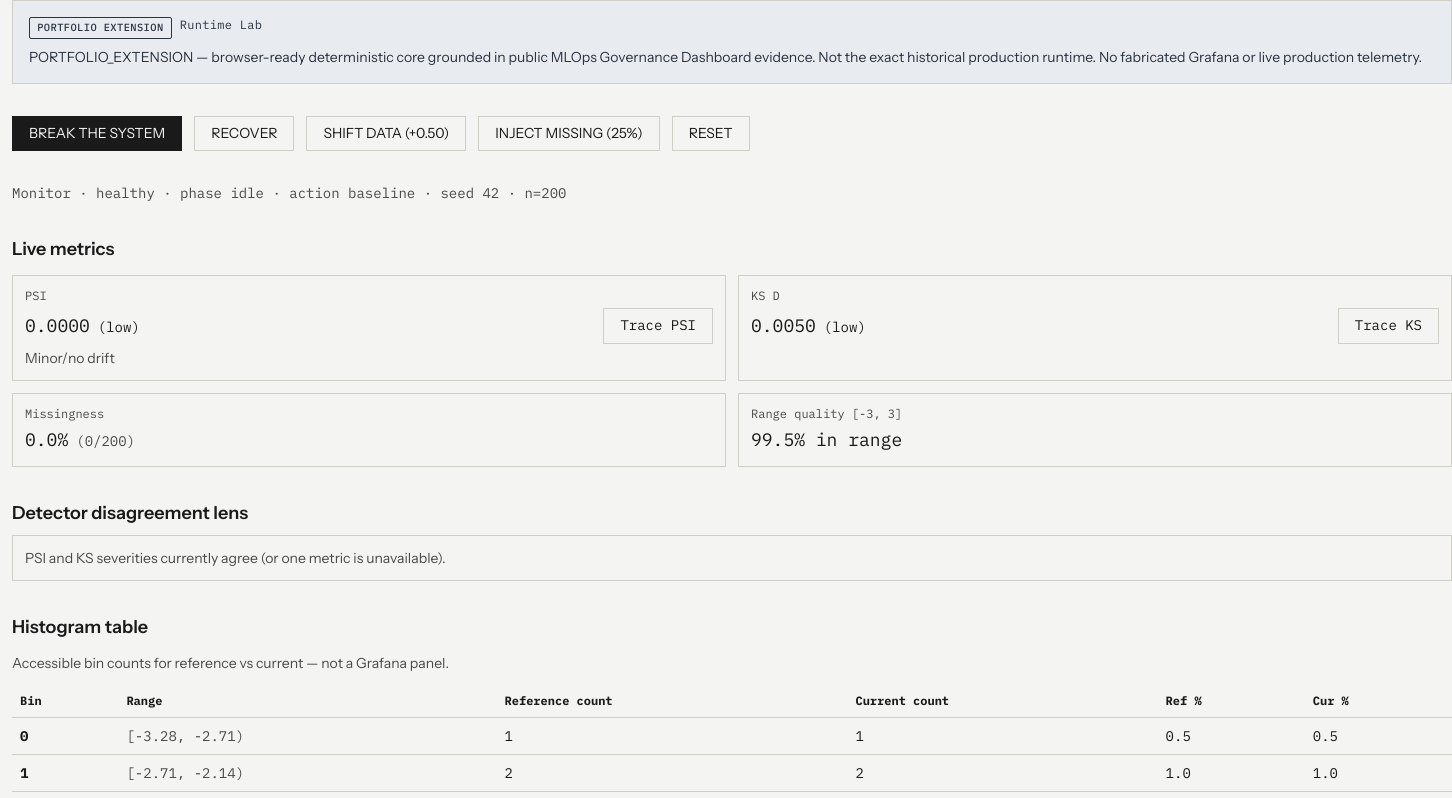
MlopsLab (M6+M7) › RECOVER returns to healthy baseline after a break
Click the button "BREAK THE SYSTEM". click: [97, 133]
box: [12,116,182,151]
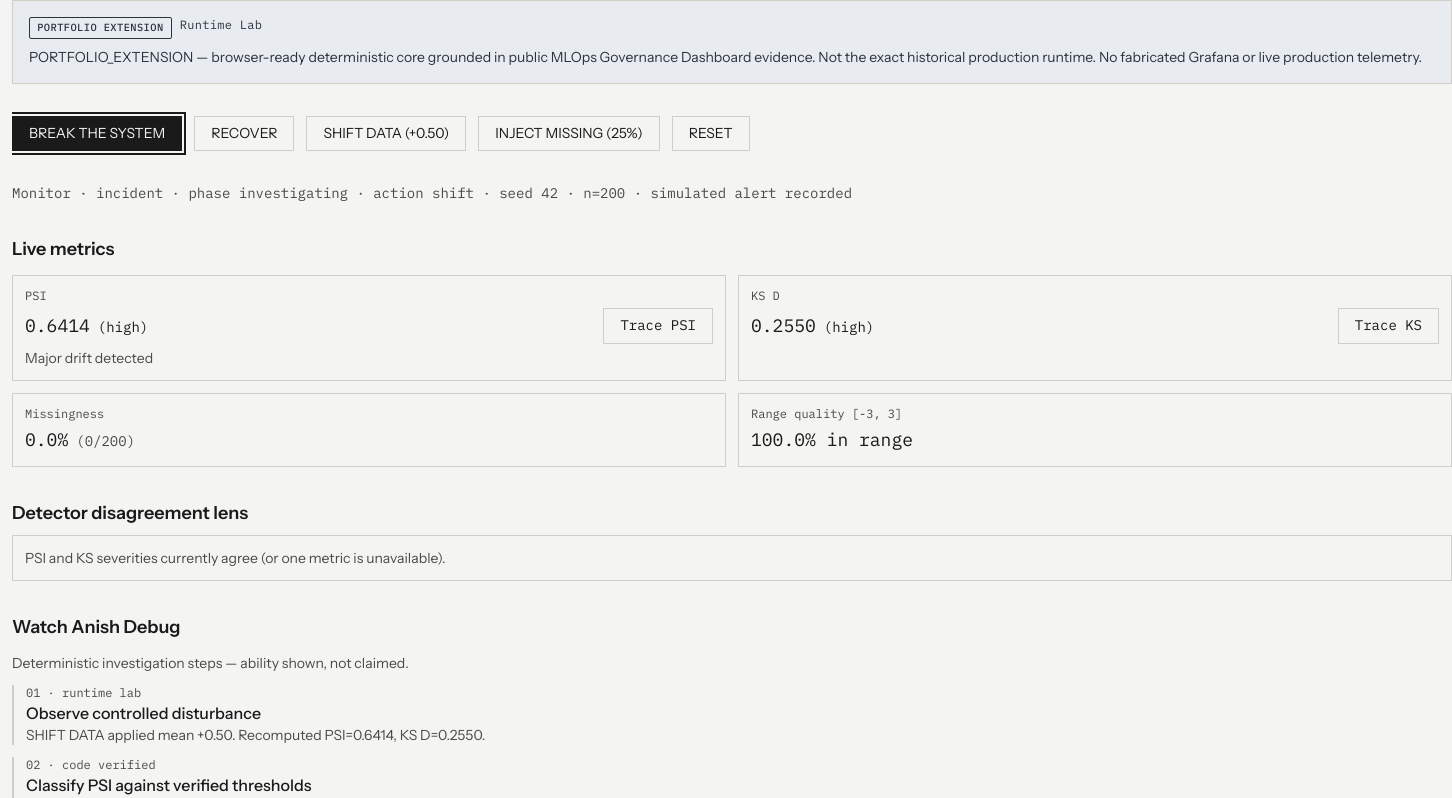
Click the button "RECOVER". click: [244, 133]
box: [194,116,294,151]
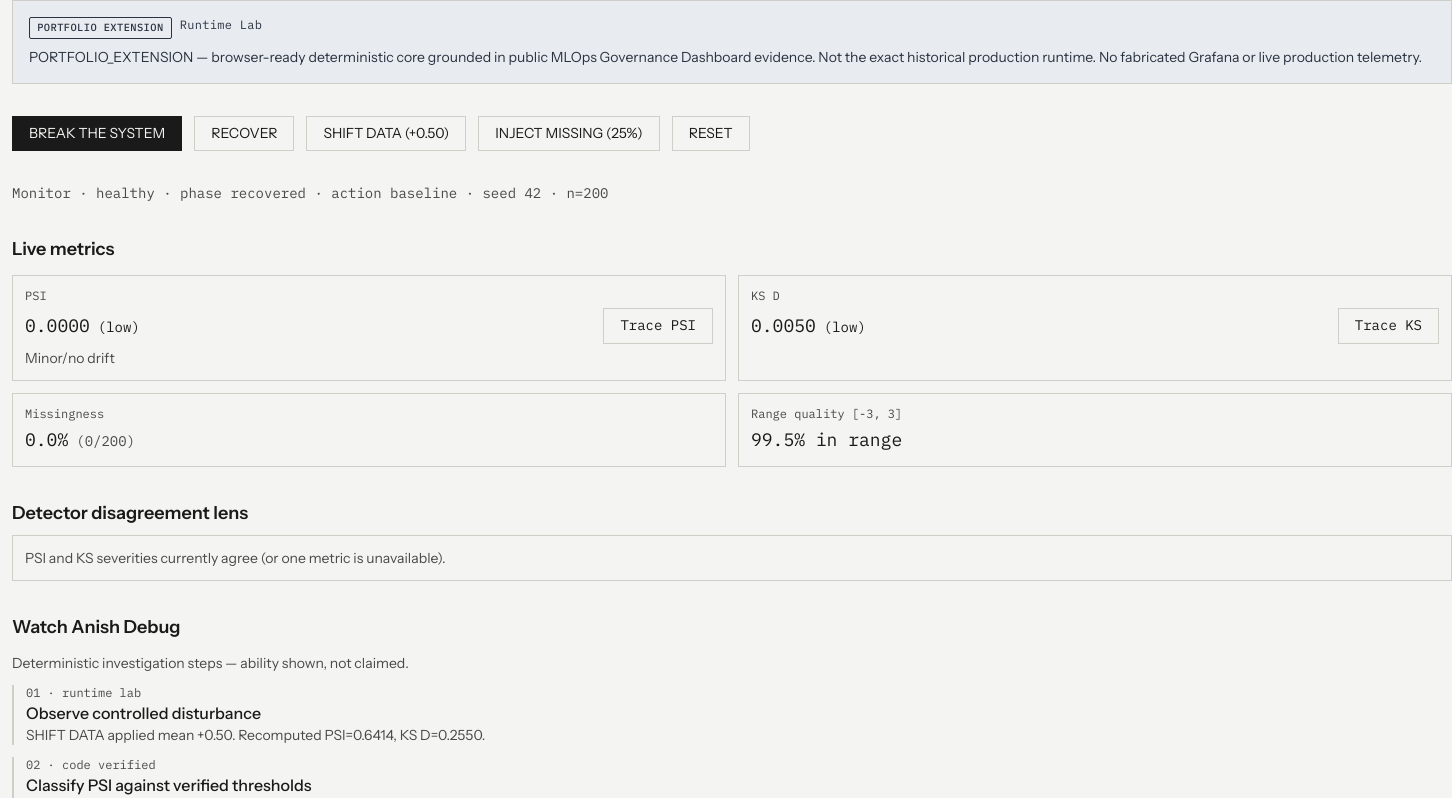
Check: the text "Monitor · healthy · phase recovered · action baseline · seed 42 · n=200" is shown, box [12,184,608,202]
